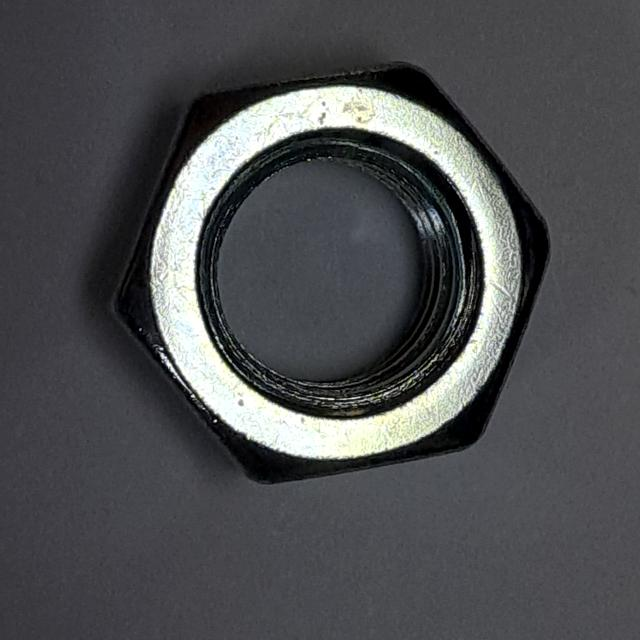Excellent: (83, 49, 559, 508)
